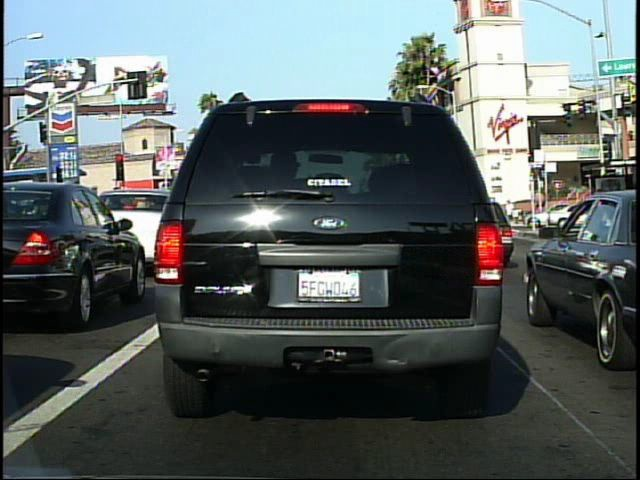person: (591, 184, 614, 242), (504, 198, 517, 226)
